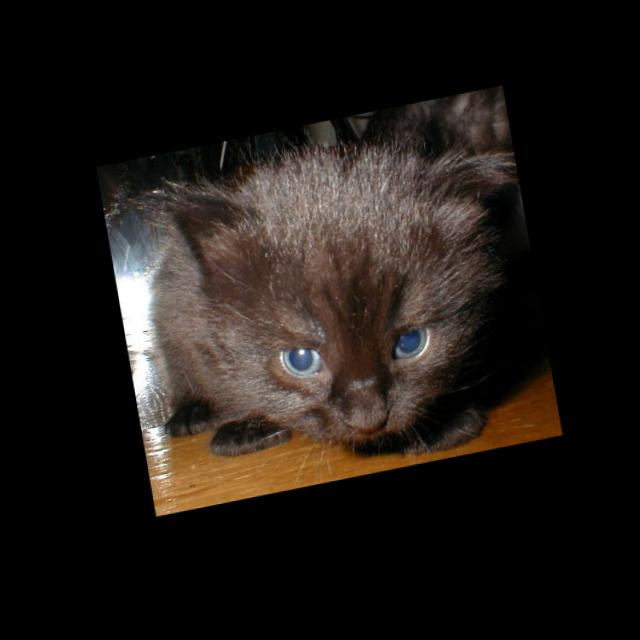animals: (161, 129, 554, 466)
